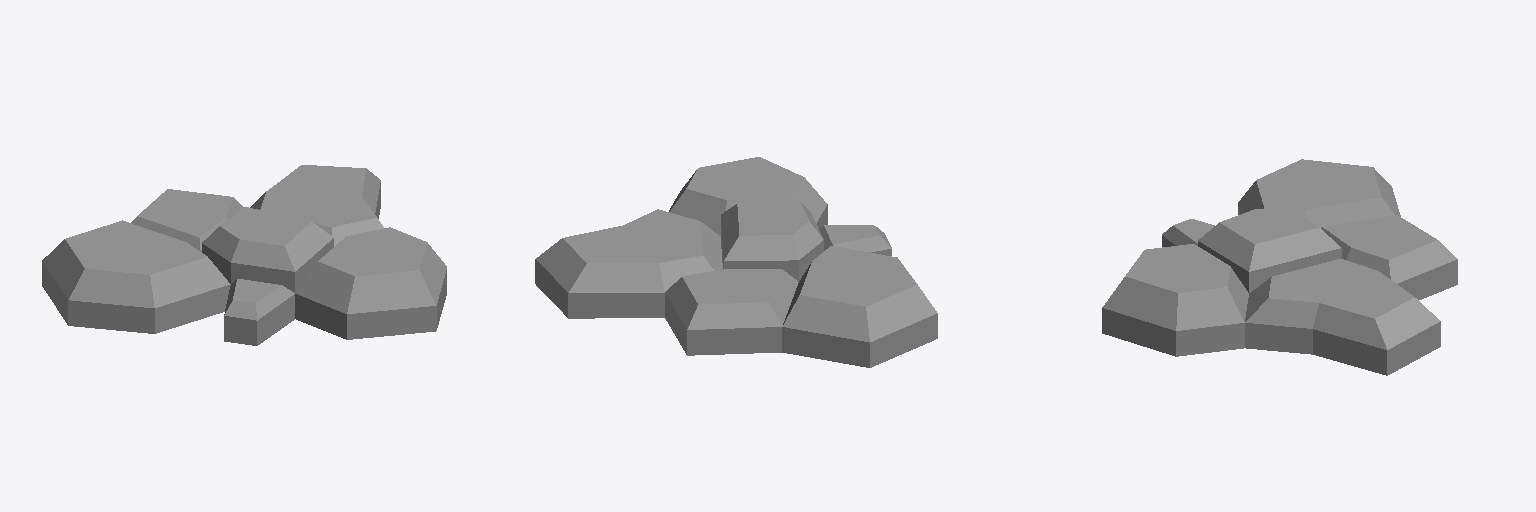
File: rock15.obj
The picture shows the model from 3 angles: view 1: azimuth 30°, elevation 25°; view 2: azimuth 150°, elevation 25°; view 3: azimuth 270°, elevation 25°; orthographic projection.
Visible parts, largest first — view 1: Rock_Type4_02_mesh_Circle.006; view 2: Rock_Type4_02_mesh_Circle.006; view 3: Rock_Type4_02_mesh_Circle.006.
Boxes of the visible parts, x1=… form: Rock_Type4_02_mesh_Circle.006: x1=42, y1=165, x2=446, y2=345; Rock_Type4_02_mesh_Circle.006: x1=535, y1=157, x2=937, y2=367; Rock_Type4_02_mesh_Circle.006: x1=1102, y1=159, x2=1457, y2=375.
Size of the model in its own units: 3.03 by 0.53 by 2.61.